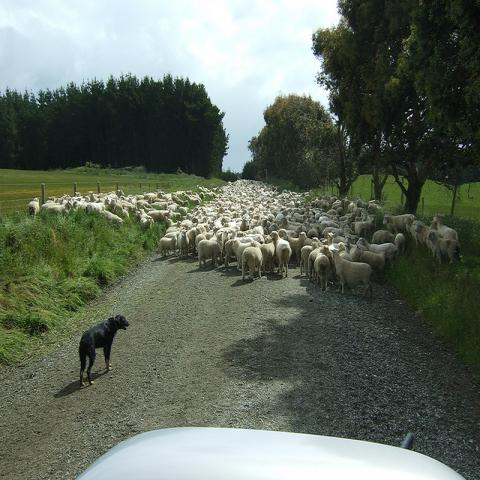car: (81, 422, 461, 475)
